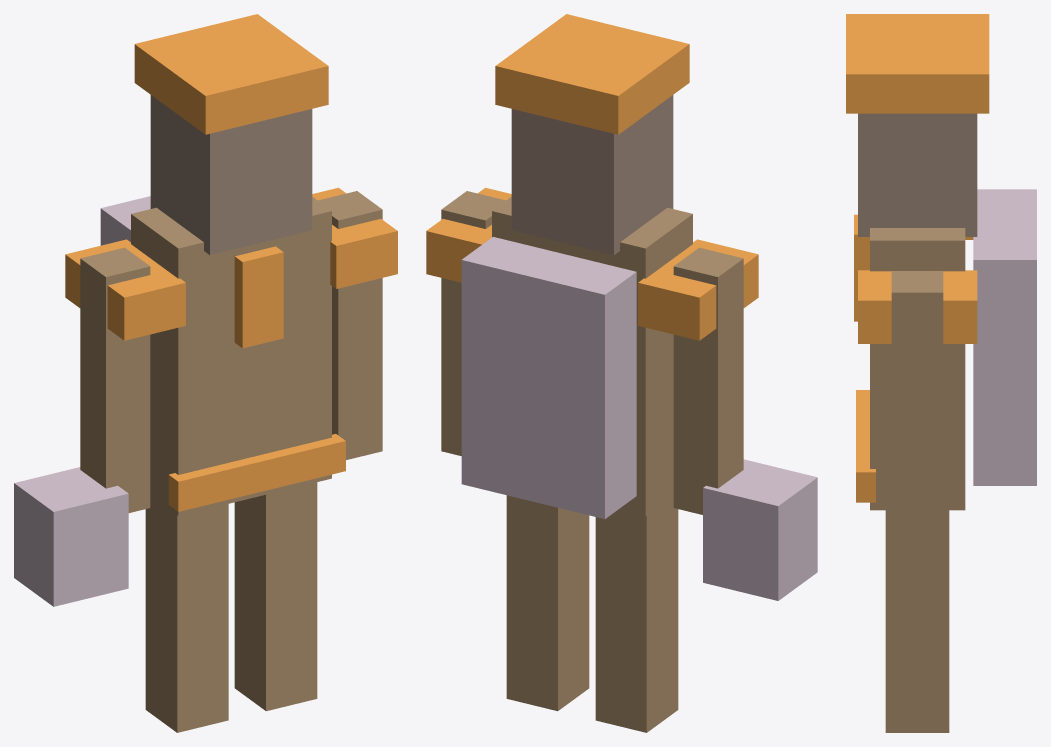
File: 11_maven_runeclasp_mechanist_of_avalanche.glb
3 renders of one model, left to right at view 1: azimuth 30°, elevation 25°; view 2: azimuth 150°, elevation 25°; view 3: azimuth 270°, elevation 25°, orthographic.
Visible parts, largest first — view 1: Maven Runeclasp, Mechanist of Avalanche; view 2: Maven Runeclasp, Mechanist of Avalanche; view 3: Maven Runeclasp, Mechanist of Avalanche.
Part boxes in pixels (x1,y1,x2,y2): Maven Runeclasp, Mechanist of Avalanche: (14, 14, 397, 732); Maven Runeclasp, Mechanist of Avalanche: (426, 14, 817, 732); Maven Runeclasp, Mechanist of Avalanche: (846, 14, 1036, 732).
Bounding box in the file's own units: 0.9273 × 1.69 × 0.4473.
